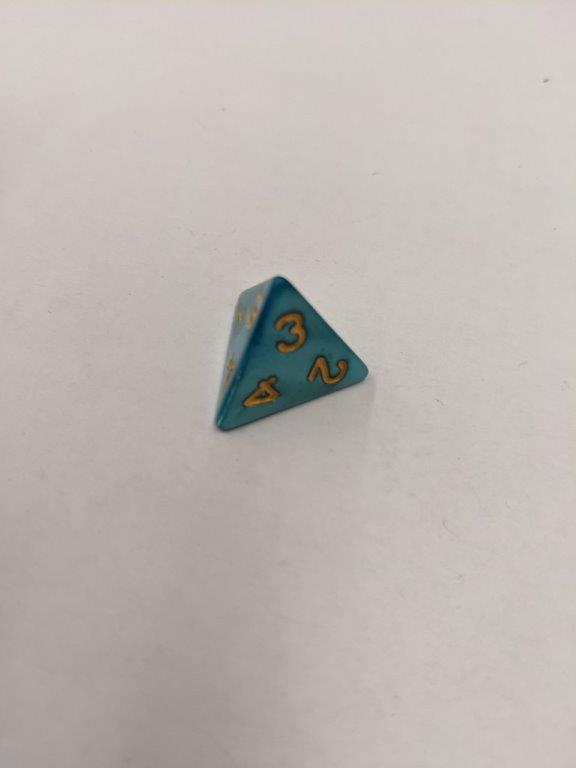d4-3: (210, 270, 371, 437)
